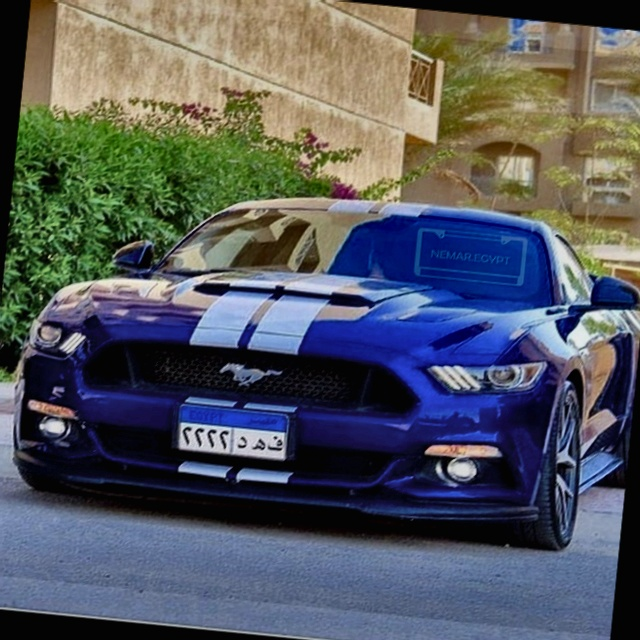License Plate: (171, 401, 293, 463)
